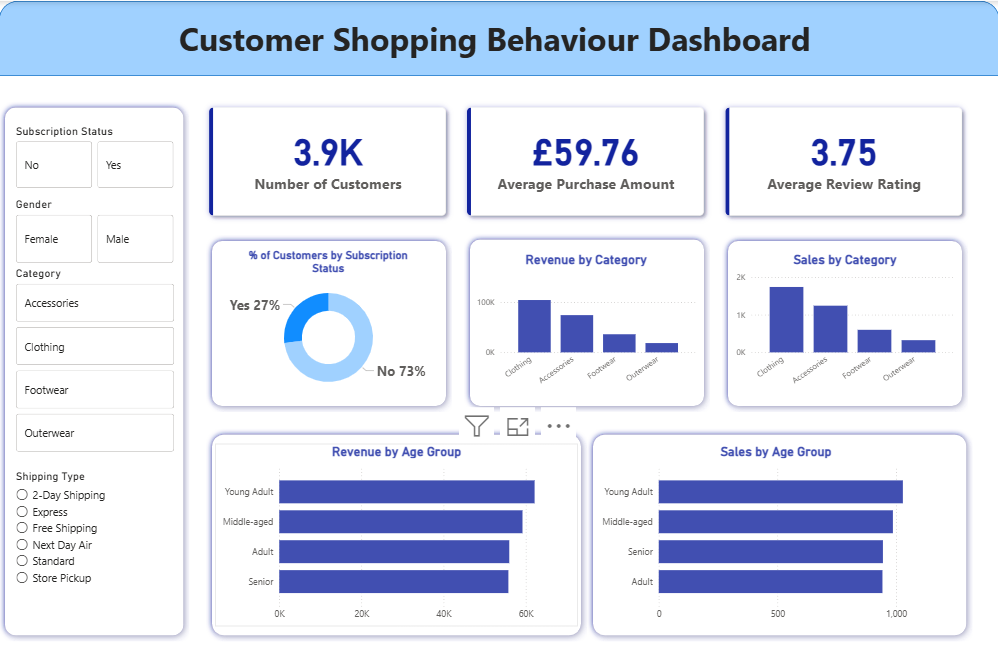

Layout of this report page (visuals, bound fields, positions):
{"tool":"powerbi","page":{"name":"Page 1","canvas":[1500,1000],"ordinal":0},"visuals":[{"type":"cardVisual","fields":{"Data":["public customer.Number of Customers","public customer.Average Purchase Amount","public customer.Average Review Rating"]},"box":[285.6,130.4,1189.7,220.4],"z":0},{"type":"shape","box":[0,0,1500,112.4],"z":1000},{"type":"textbox","box":[0,18,1500,94.5],"z":2000},{"type":"shape","box":[1084,350.8,368.8,265.4],"z":3000},{"type":"shape","box":[697.2,348.6,368.8,267.6],"z":4000},{"type":"shape","box":[310.4,350.8,368.8,265.4],"z":5000},{"type":"clusteredColumnChart","title":"Revenue by Category","fields":{"Y":["Sum(public customer.purchase_amount)"],"Category":["public customer.category"]},"box":[710.7,375.6,339.6,215.9],"z":6000},{"type":"clusteredColumnChart","title":"Sales by Category","fields":{"Y":["CountNonNull(public customer.customer_id)"],"Category":["public customer.category"]},"box":[1099.7,375.6,337.3,215.9],"z":7000},{"type":"shape","box":[0,150.7,285.6,809.6],"z":8000},{"type":"donutChart","title":"% of Customers by Subscription Status","fields":{"Category":["public customer.subscription_status"],"Y":["CountNonNull(public customer.customer_id)"]},"box":[321.6,371.1,344.1,224.9],"z":9000},{"type":"advancedSlicerVisual","title":"Subscription Status","fields":{"Values":["public customer.subscription_status"]},"box":[20.2,184.4,247.4,101.2],"z":10000},{"type":"advancedSlicerVisual","title":"Gender","fields":{"Values":["public customer.gender"]},"box":[20.2,294.6,247.4,103.5],"z":11000},{"type":"listSlicer","title":"Shipping Type","fields":{"Values":["public customer.shipping_type"]},"box":[20.2,701.7,247.4,236.1],"z":12000},{"type":"advancedSlicerVisual","title":"Category","fields":{"Values":["public customer.category"]},"box":[20.2,398.1,247.4,285.6],"z":13000},{"type":"shape","box":[881.6,640.9,578,319.3],"z":16000},{"type":"clusteredBarChart","title":"Sales by Age Group","fields":{"Y":["CountNonNull(public customer.customer_id)"],"Category":["public customer.age_group"]},"box":[892.8,663.4,544.2,274.4],"z":17000},{"type":"shape","box":[310.4,640.9,571.2,319.3],"z":17001},{"type":"clusteredBarChart","title":"Revenue by Age Group","fields":{"Y":["Sum(public customer.purchase_amount)"],"Category":["public customer.age_group"]},"box":[323.8,663.4,544.2,274.4],"z":17002}]}

Visuals, with their boxes in screenshot pixels (x1, y1, x2, y2), scaled from the page's 1500x1000 canvas onto the 998x660 screenshot:
cardVisual - public customer.Number of Customers x public customer.Average Purchase Amount: [190,86,982,232]
shape: [0,0,997,74]
textbox: [0,12,997,74]
shape: [721,232,967,407]
shape: [464,230,709,407]
shape: [207,232,452,407]
"Revenue by Category" clusteredColumnChart: [473,248,699,390]
"Sales by Category" clusteredColumnChart: [732,248,956,390]
shape: [0,99,190,634]
"% of Customers by Subscription Status" donutChart: [214,245,443,393]
"Subscription Status" advancedSlicerVisual: [13,122,178,188]
"Gender" advancedSlicerVisual: [13,194,178,263]
"Shipping Type" listSlicer: [13,463,178,619]
"Category" advancedSlicerVisual: [13,263,178,451]
shape: [587,423,971,634]
"Sales by Age Group" clusteredBarChart: [594,438,956,619]
shape: [207,423,587,634]
"Revenue by Age Group" clusteredBarChart: [215,438,578,619]
